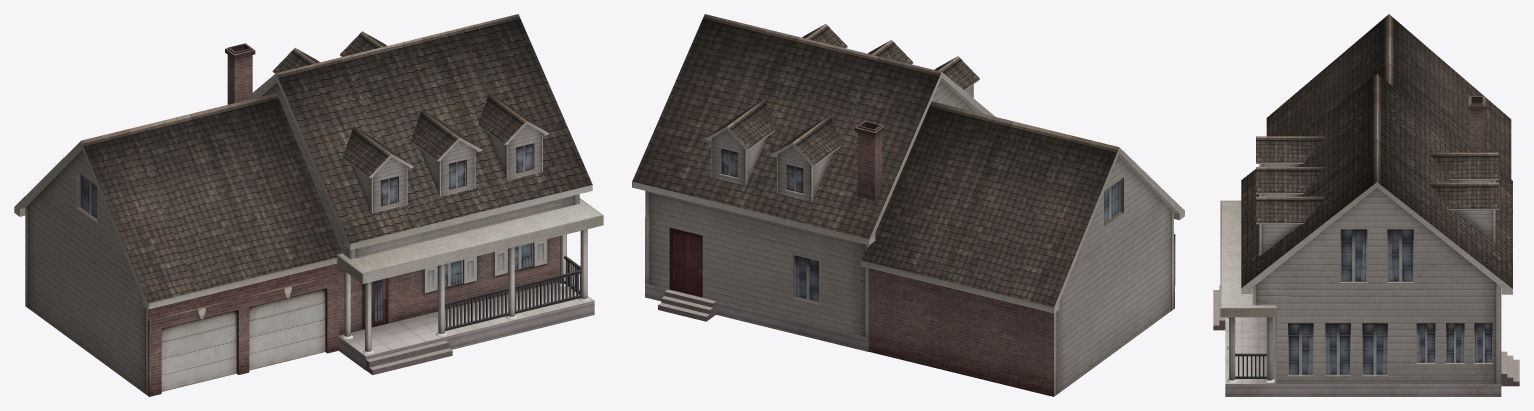
The model's file is House01.fbx.
The picture shows the model from 3 angles, left to right: view 1: azimuth 30°, elevation 25°; view 2: azimuth 150°, elevation 25°; view 3: azimuth 270°, elevation 25°; orthographic projection. The views are drawn at different scales.
Visible parts, largest first — view 1: Model; view 2: Model; view 3: Model.
Part boxes in pixels (<box>): Model: <box>14,14,603,396</box>; Model: <box>632,14,1184,396</box>; Model: <box>1213,14,1519,396</box>.
Size of the model in its own units: 500 by 265 by 337.
